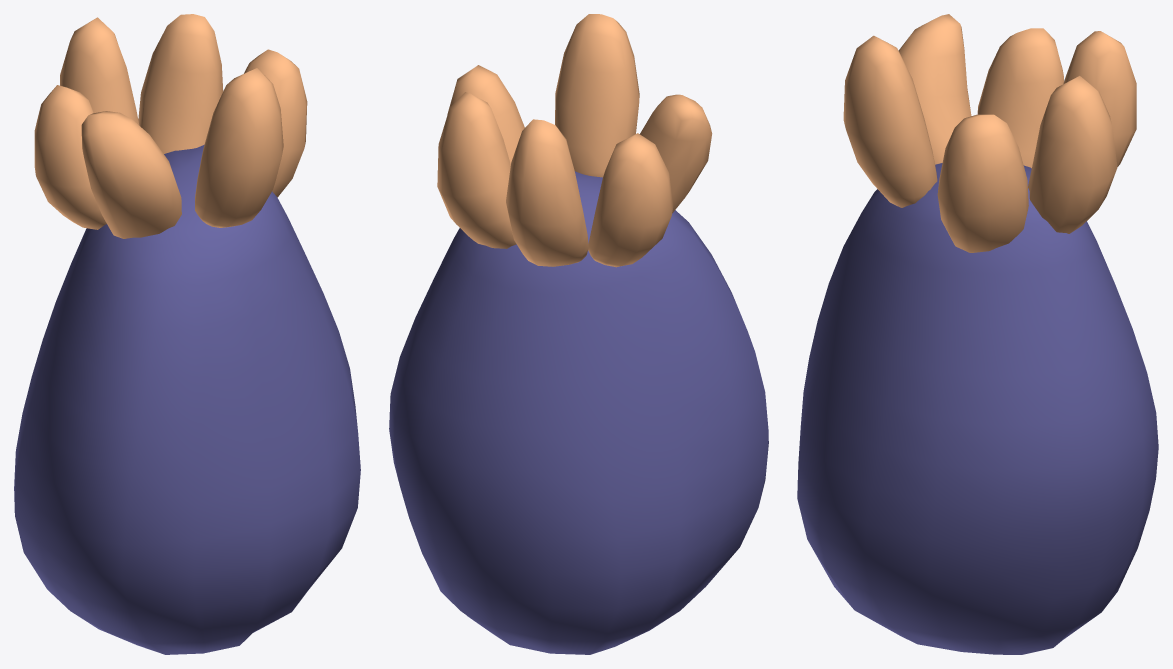
The model's file is Sponge_A_01.fbx.
The picture shows the model from 3 angles, left to right: view 1: azimuth 30°, elevation 25°; view 2: azimuth 150°, elevation 25°; view 3: azimuth 270°, elevation 25°; orthographic projection. The views are drawn at different scales.
Parts seen in each view (by area): view 1: Sponge_A_01_LOD0; view 2: Sponge_A_01_LOD0; view 3: Sponge_A_01_LOD0.
Boxes of the visible parts, box(x1,y1,x2,y2) form: Sponge_A_01_LOD0: box(14, 14, 360, 654); Sponge_A_01_LOD0: box(389, 14, 768, 654); Sponge_A_01_LOD0: box(797, 14, 1158, 654).
Size of what is drawn, in the model's own units: 252 by 453 by 245.
